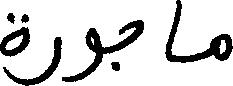X: (62, 23, 102, 85), (0, 8, 28, 85), (30, 32, 60, 85), (167, 0, 180, 66), (121, 15, 141, 53), (212, 29, 232, 65)
